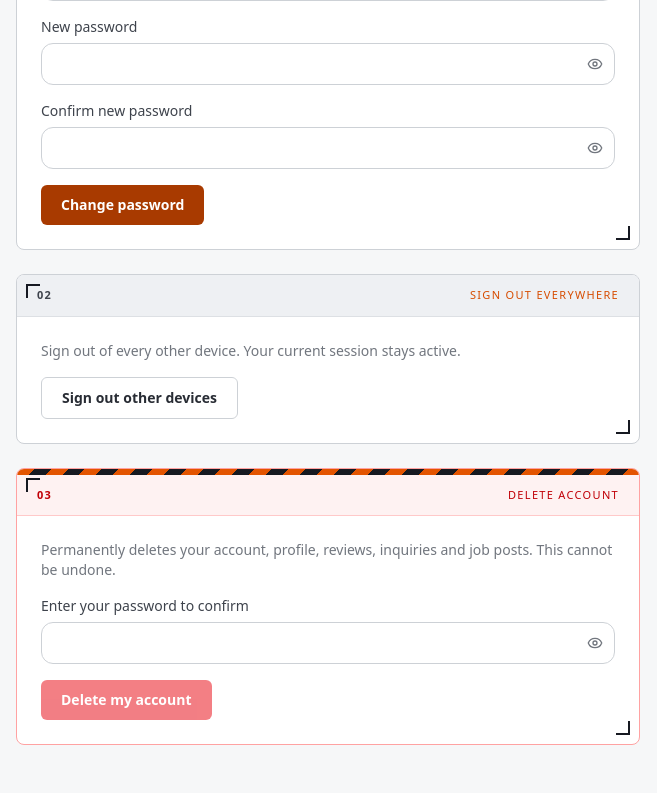
Test case: SecuritySettings — delete account › shows the server error via role=alert when deletion fails
(page scrolled)
Type "mypassword" into the password field labelled "Enter your password to confirm" at (328, 643), box x1=41 y1=622 x2=615 y2=664
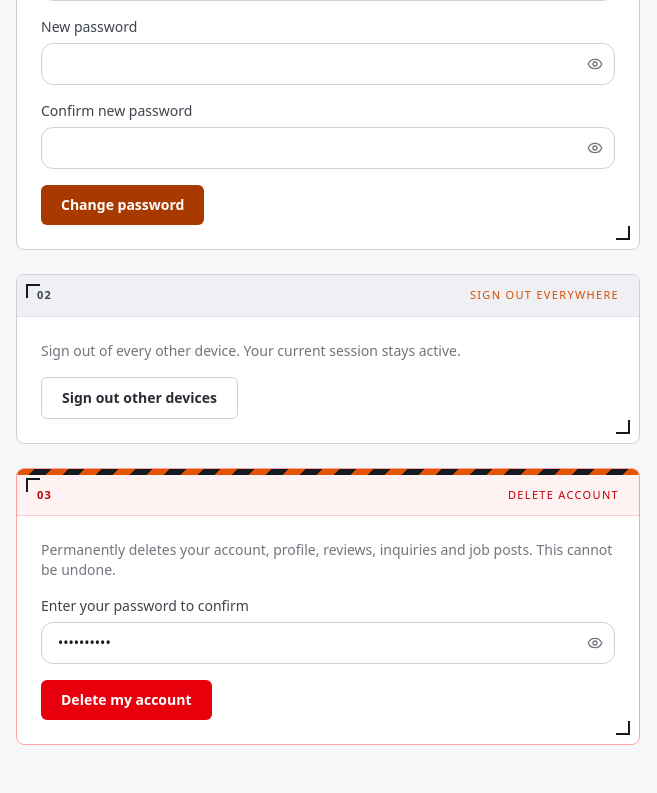
Click the button "Delete my account" at (126, 700), box x1=41 y1=680 x2=212 y2=720
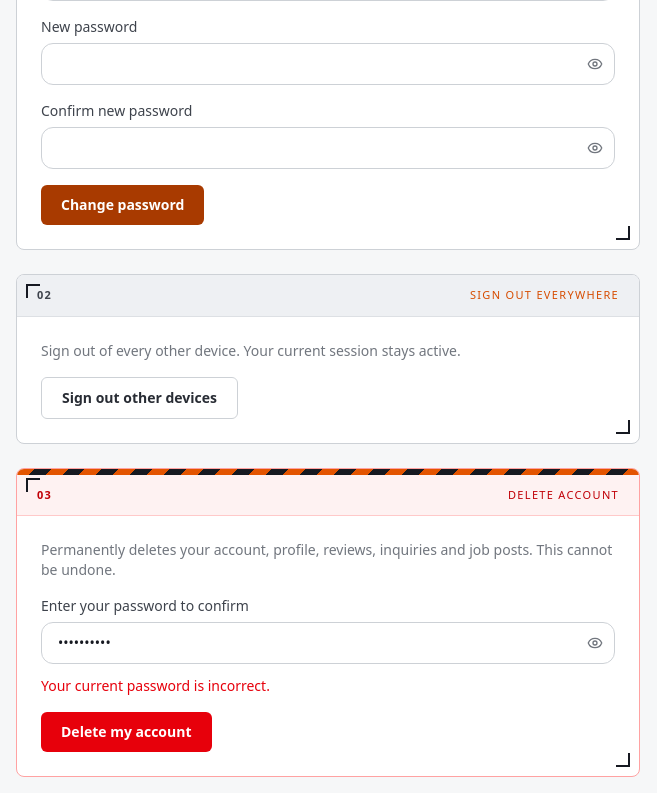
Check: the message reads "Your current password is incorrect.", box x1=41 y1=676 x2=270 y2=695
